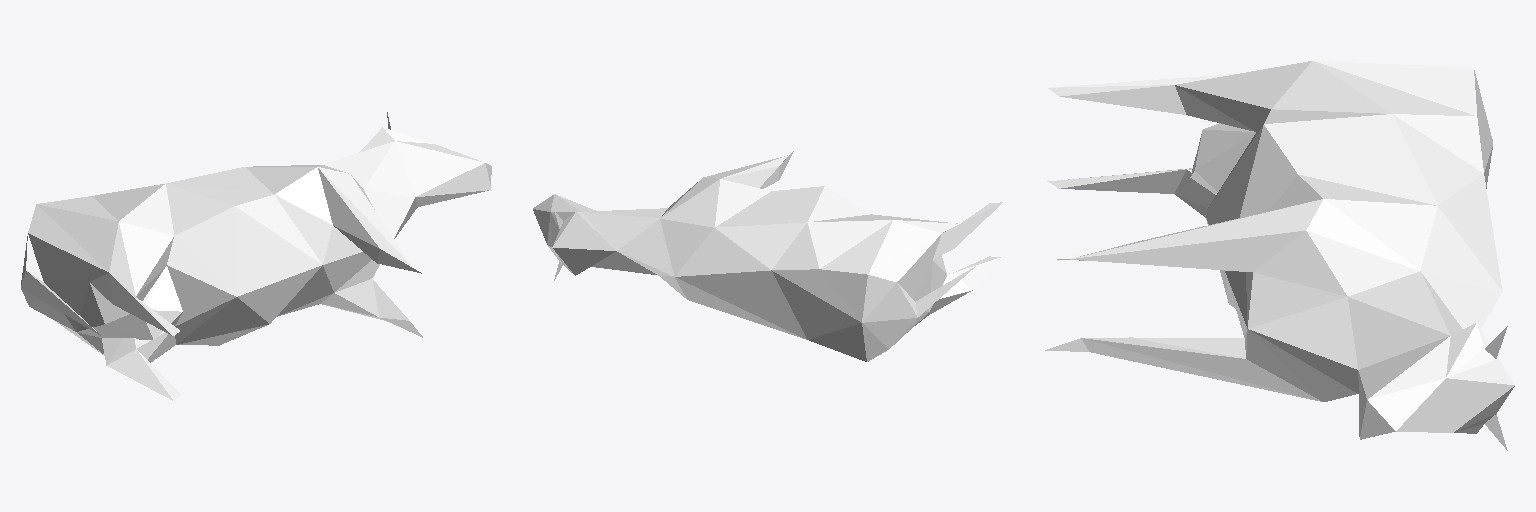
URDF robot description (cow_0.25.obj):
<robot name="cow_0.25.obj">
	<link name="_name">
		<visual>
			<origin rpy="0.0 0.0 0.0" xyz="-115.9856577563106 -580.2254679597474 232.381958" />
			<geometry>
				<mesh filename="cow_0.25.obj" scale="1 1 1" />
			</geometry>
			<material name="texture">
				<color rgba="1.0 1.0 1.0 1.0" />
			</material>
		</visual>
		<collision>
			<origin rpy="0.0 0.0 0.0" xyz="-115.9856577563106 -580.2254679597474 232.381958" />
			<geometry>
				<mesh filename="cow_0.25.obj" scale="1 1 1" />
			</geometry>
		</collision>
		<inertial>
			<mass value="1.0" />
			<inertia ixx="1.0" ixy="0.0" ixz="0.0" iyy="1.0" iyz="0.0" izz="1.0" />
		</inertial>
	</link>
</robot>

--- Render facts (derived) ---
Views: 3 orthographic renders of the robot side by side, from view 1: azimuth 30°, elevation 25°; view 2: azimuth 150°, elevation 25°; view 3: azimuth 270°, elevation 25°.
Robot: cow_0.25.obj — 1 links, 0 joints (none); root link _name; default pose: all joints at 0.
Links seen in each view (by area): view 1: _name; view 2: _name; view 3: _name.
Link boxes in pixels (left/top/right/bottom): _name: left=21, top=112, right=491, bottom=400; _name: left=533, top=151, right=1002, bottom=361; _name: left=1045, top=61, right=1514, bottom=450.
Bounding box of the posed robot: 1453 × 891 × 448 m (x, y, z).
Meshes: 1 distinct files referenced, 1 mesh visuals loaded (1 OBJ).